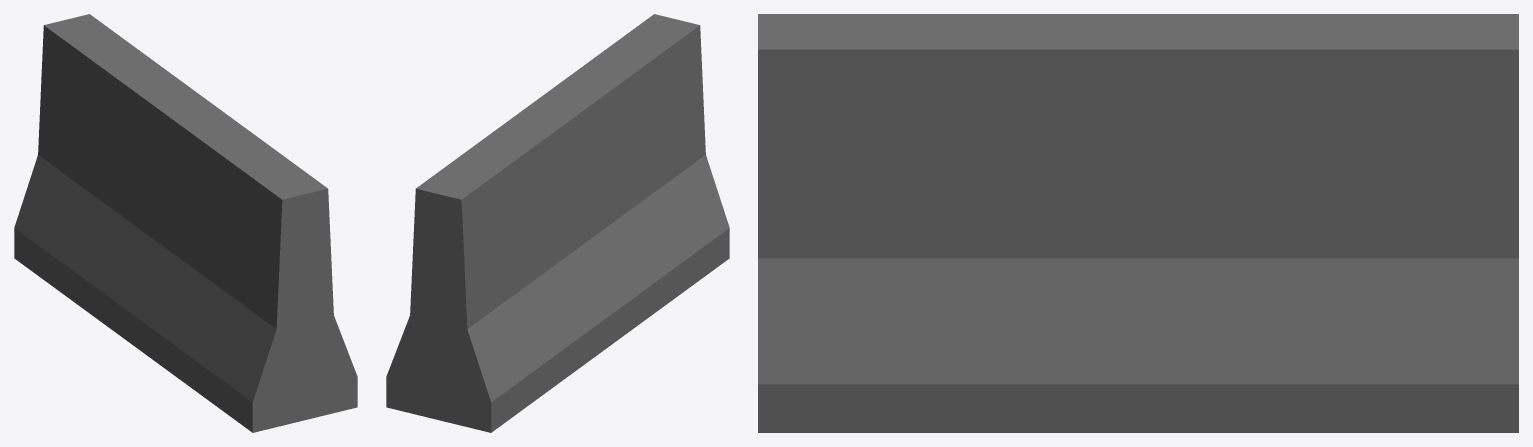
The model's file is Barrier-02.fbx.
The picture shows the model from 3 angles, left to right: view 1: azimuth 30°, elevation 25°; view 2: azimuth 150°, elevation 25°; view 3: azimuth 270°, elevation 25°; orthographic projection. The views are drawn at different scales.
Visible parts, largest first — view 1: Barrier-02; view 2: Barrier-02; view 3: Barrier-02.
Part boxes in pixels (x1,y1,x2,y2): Barrier-02: [14, 14, 357, 432]; Barrier-02: [386, 14, 729, 432]; Barrier-02: [758, 14, 1518, 432].
Size of what is drawn, in the model's own units: 0.5078 by 1.05 by 2.
